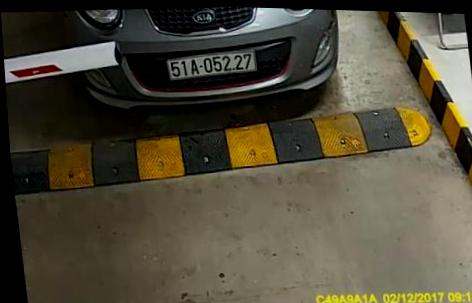License_Plate: (164, 48, 269, 90)
